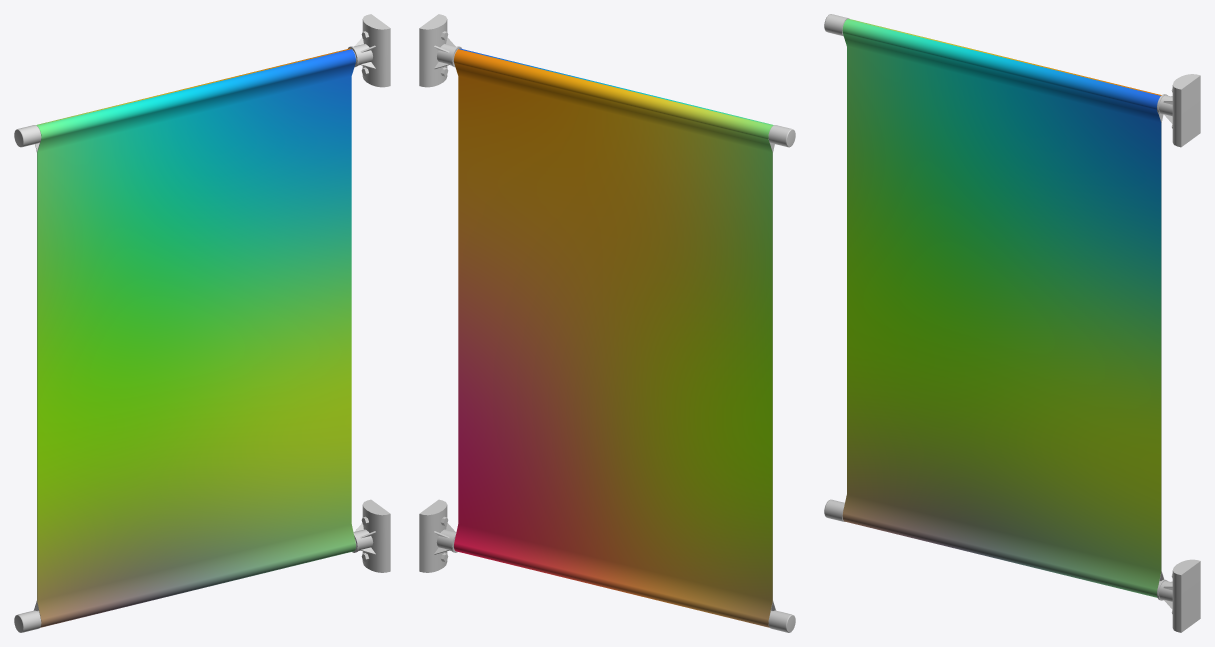
Rendered from street_banner_01_small.glb.
The picture shows the model from 3 angles, left to right: view 1: azimuth 30°, elevation 25°; view 2: azimuth 150°, elevation 25°; view 3: azimuth 330°, elevation 25°; orthographic projection.
Visible parts, largest first — view 1: street_banner_01_small; view 2: street_banner_01_small; view 3: street_banner_01_small.
Part boxes in pixels (left/top/right/bottom): street_banner_01_small: left=14, top=14, right=390, bottom=632; street_banner_01_small: left=419, top=14, right=795, bottom=632; street_banner_01_small: left=824, top=14, right=1200, bottom=632.
Size of the model in its own units: 0.7022 by 1.01 by 0.0655.
Materials: 3 (3 with a texture image).
